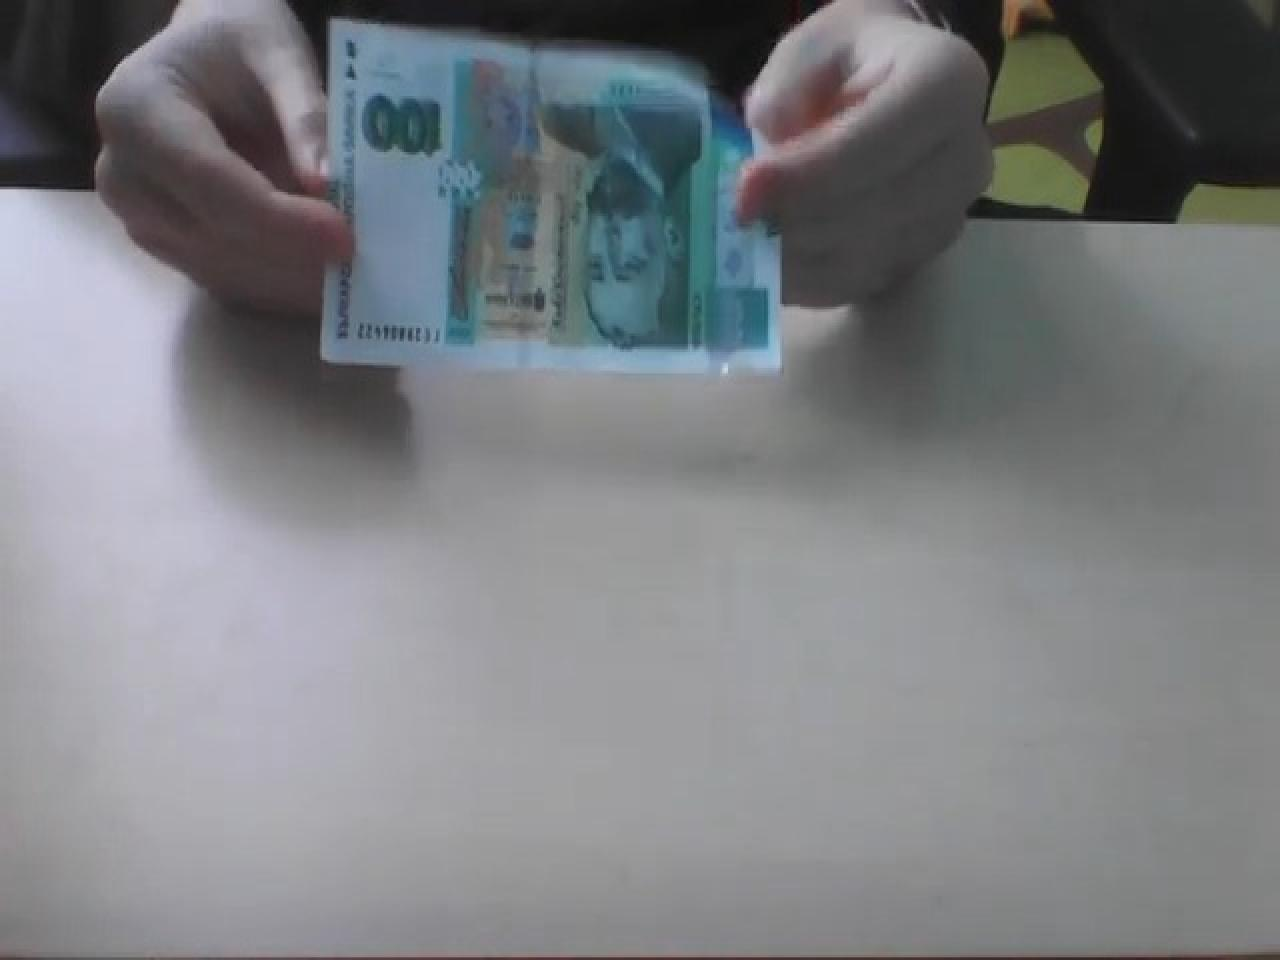100leva: (316, 16, 784, 379)
